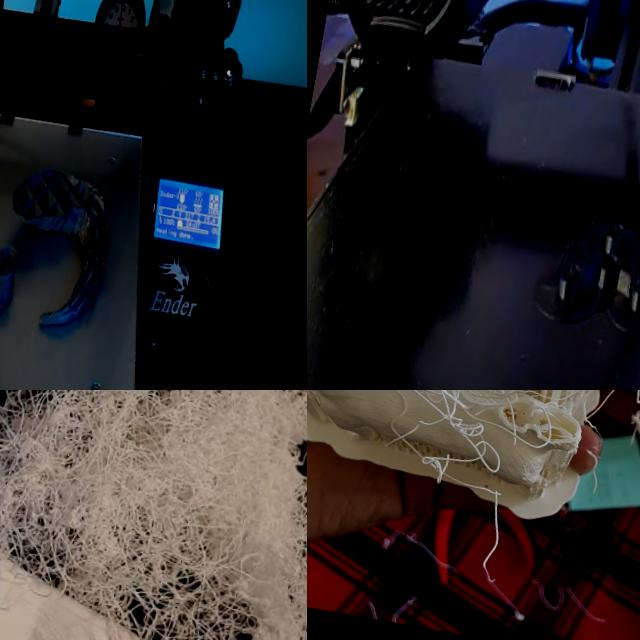spaghetti: (0, 390, 307, 640), (307, 390, 593, 499)
